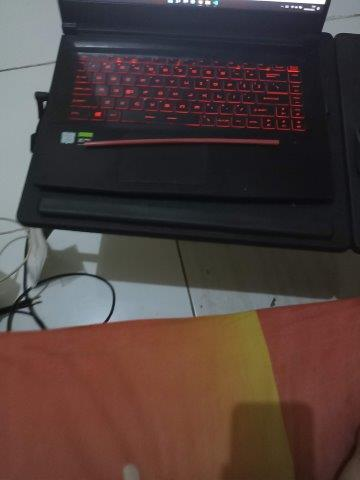sedotan: (83, 138, 279, 147)
